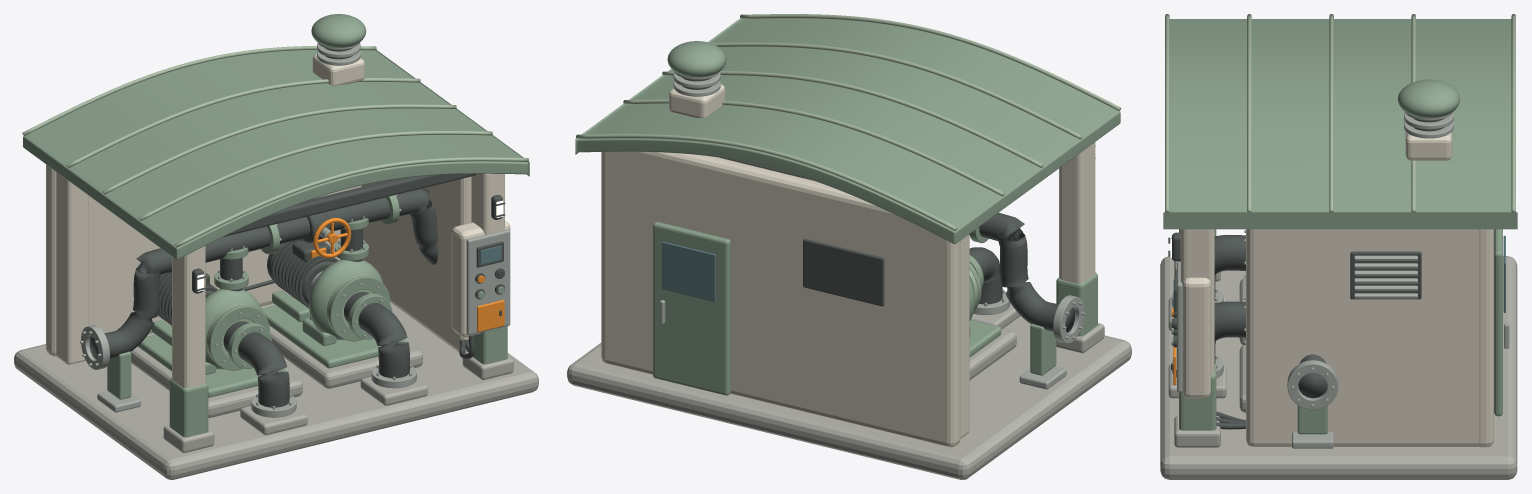
The model's file is compact_pump_station.glb.
3 renders of one model, left to right at view 1: azimuth 30°, elevation 25°; view 2: azimuth 150°, elevation 25°; view 3: azimuth 270°, elevation 25°, orthographic. The views are drawn at different scales.
Visible parts, largest first — view 1: Pump station shallow curved roof, Station shallow concrete foundation, Utility building rear wall, Utility enclosed side wall, Main thick curved manifold, Left rear canopy pier, Canopy front rounded column -2.2, Canopy underside beam -1.4, Control cabinet front panel, Pump 1 steel skid, Pump 0 curved suction inlet, Pump 1 curved suction inlet (+32 smaller); view 2: Utility building rear wall, Pump station shallow curved roof, Station shallow concrete foundation, Rear utility door, Canopy front rounded column -2.2, Utility rear ventilation recess, Main thick curved manifold, Rear utility door window, Left rear canopy pier, Canopy roof raised seam -1.82, Canopy roof raised seam 2.06, Canopy roof raised seam -0.90 (+12 smaller); view 3: Pump station shallow curved roof, Utility enclosed side wall, Station shallow concrete foundation, Control cabinet enclosure, Utility building rear wall, Canopy front rounded column 2.2, Exhaust mushroom cap, Rear utility door, Utility side ventilation recess, Station external outlet flange 1, Canopy column sage base 2.2, Pump 1 curved suction inlet (+22 smaller).
Boxes of the visible parts, x1,y1,x2,y2 form: Pump station shallow curved roof: (23,50,529,259); Station shallow concrete foundation: (14,298,538,479); Utility building rear wall: (46,164,361,356); Utility enclosed side wall: (361,176,471,352); Main thick curved manifold: (89,188,438,359); Left rear canopy pier: (56,172,88,364); Canopy front rounded column -2.2: (172,245,205,387); Canopy underside beam -1.4: (223,173,476,236); Control cabinet front panel: (466,229,510,335); Pump 1 steel skid: (262,300,407,368); Pump 0 curved suction inlet: (238,332,289,407); Pump 1 curved suction inlet: (358,303,409,378); Utility building rear wall: (601,151,960,447); Pump station shallow curved roof: (575,18,1120,244); Station shallow concrete foundation: (567,316,1131,479); Rear utility door: (653,222,730,395); Canopy front rounded column -2.2: (1059,142,1095,283); Utility rear ventilation recess: (803,238,884,306); Main thick curved manifold: (979,212,1074,332); Rear utility door window: (662,241,715,301); Left rear canopy pier: (960,234,969,438); Canopy roof raised seam -1.82: (740,14,1121,111); Canopy roof raised seam 2.06: (576,134,957,231); Canopy roof raised seam -0.90: (711,42,1082,139); Pump station shallow curved roof: (1163,19,1517,229); Utility enclosed side wall: (1246,229,1479,446); Station shallow concrete foundation: (1160,256,1517,479); Control cabinet enclosure: (1182,277,1210,398); Utility building rear wall: (1479,229,1493,447); Canopy front rounded column 2.2: (1180,229,1214,374); Exhaust mushroom cap: (1397,79,1460,118); Rear utility door: (1494,229,1502,416); Utility side ventilation recess: (1350,251,1421,299); Station external outlet flange 1: (1287,360,1338,409); Canopy column sage base 2.2: (1179,364,1216,430); Pump 1 curved suction inlet: (1214,301,1245,363).
Bounding box in the file's own units: 5.84 × 4.34 × 4.01.
